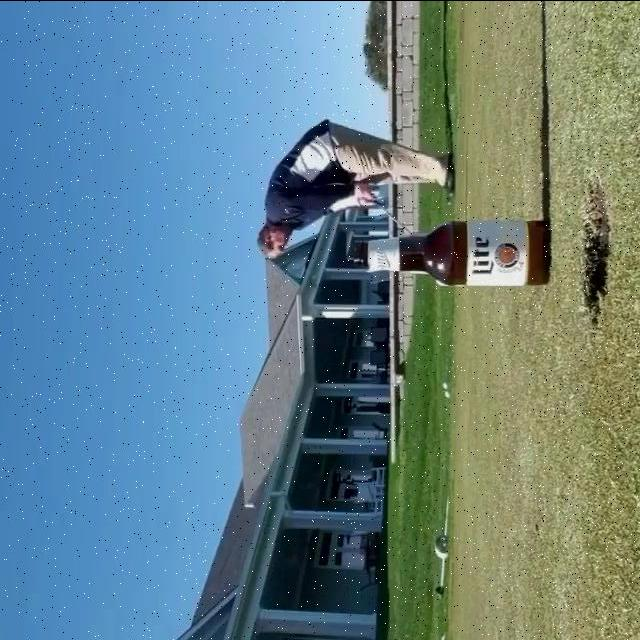golf ball: (444, 391, 450, 398), (443, 381, 448, 387)
golf club-handle: (373, 202, 411, 231)
